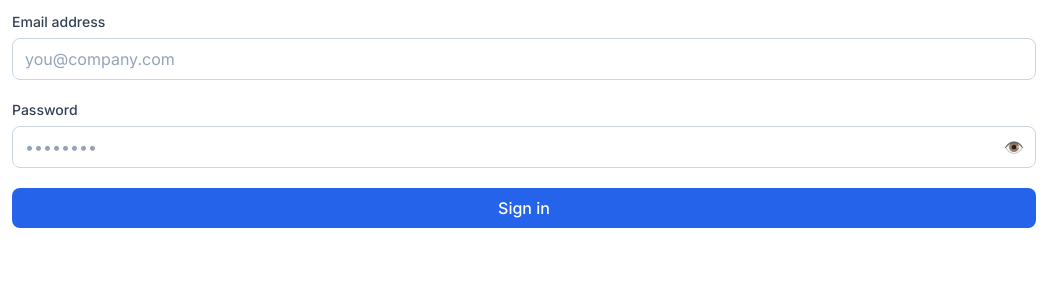
Test: LoginForm › shows validation errors for empty submission
Click the button "Sign in".
click(524, 208)  # box [12,188,1036,228]
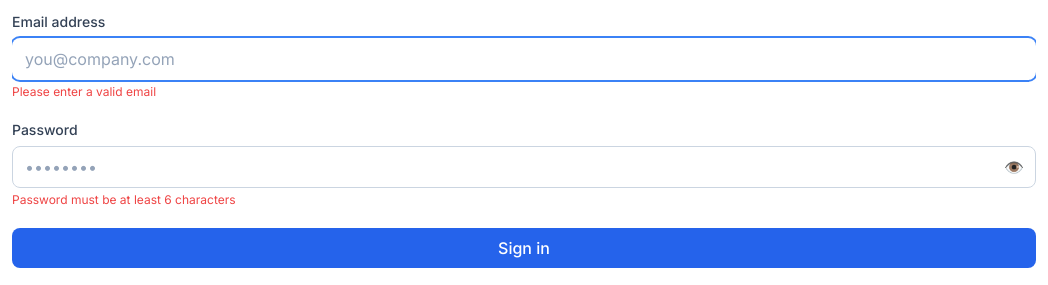
Expected: the text "Please enter a valid email" is shown, [12,84,156,99]
